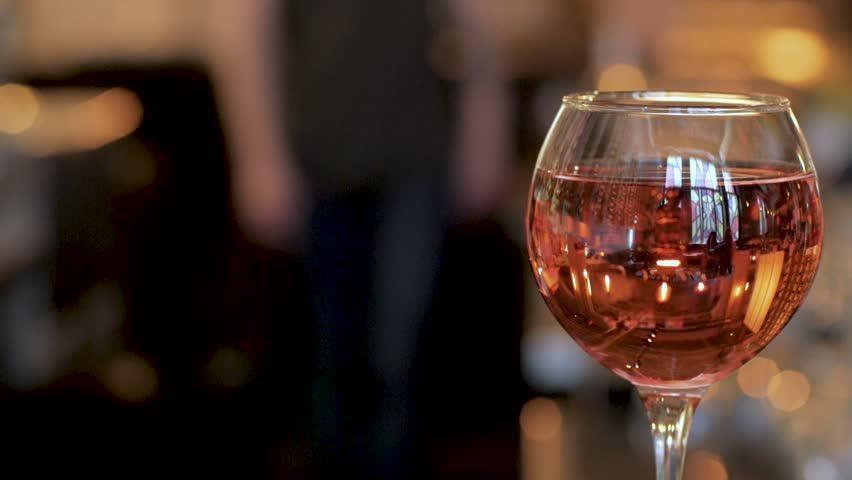glass-wine: (526, 88, 825, 479)
